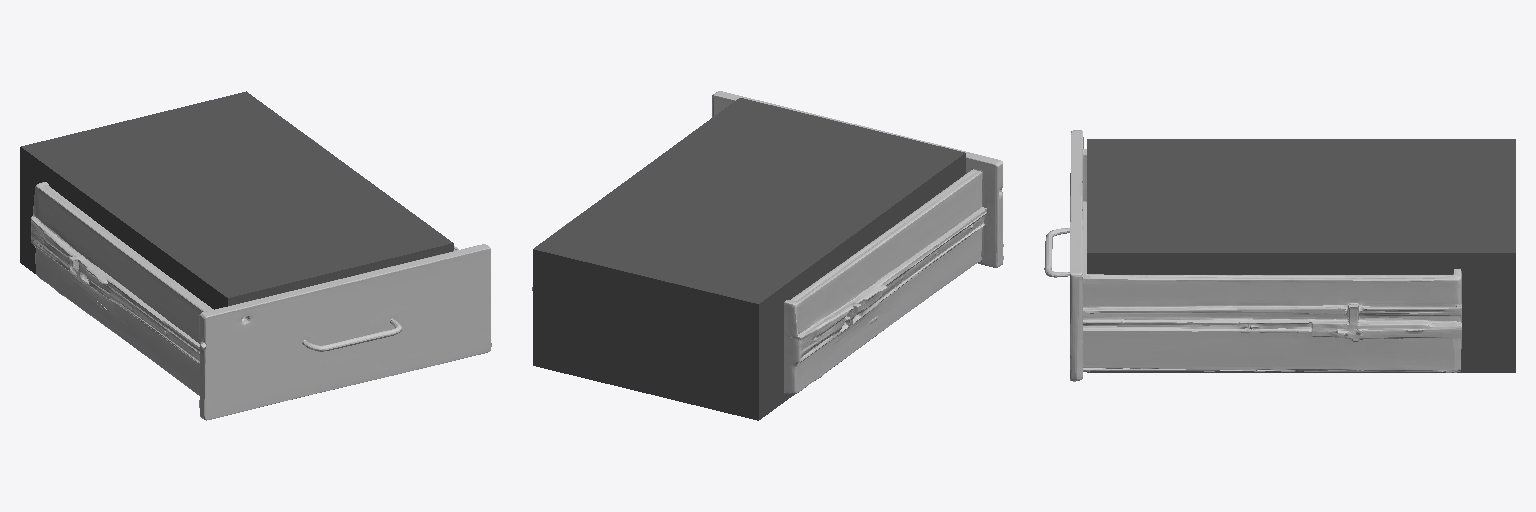
URDF robot description (Scene):
<?xml version='1.0' encoding='ASCII'?>
<robot name="Scene">
  <link name="drawer_corpus">
    <inertial>
      <origin xyz="0.0 0.0 0.0" rpy="0.0 -0.0 0.0" />
      <mass value="0.012323039999999999" />
      <inertia ixx="1.0" ixy="0.0" ixz="0.0" iyy="1.0" iyz="0.0" izz="1.0" />
    </inertial>
    <visual name="drawer_back">
      <geometry>
        <box size="0.361 0.02 0.158" />
      </geometry>
      <origin xyz="0.0 0.2865 0.079" rpy="0.0 -0.0 0.0" />
      <material name="drawer_back_main_color">
        <color rgba="0.4 0.4 0.4 1.0" />
      </material>
    </visual>
    <visual name="drawer_left">
      <geometry>
        <box size="0.02 0.5529999999999999 0.158" />
      </geometry>
      <origin xyz="-0.17049999999999998 0.0 0.079" rpy="0.0 -0.0 0.0" />
      <material name="drawer_left_main_color">
        <color rgba="0.4 0.4 0.4 1.0" />
      </material>
    </visual>
    <visual name="drawer_right">
      <geometry>
        <box size="0.02 0.5529999999999999 0.158" />
      </geometry>
      <origin xyz="0.17049999999999998 0.0 0.079" rpy="0.0 -0.0 0.0" />
      <material name="drawer_right_main_color">
        <color rgba="0.4 0.4 0.4 1.0" />
      </material>
    </visual>
    <visual name="drawer_surface_0_0">
      <geometry>
        <box size="0.321 0.5529999999999999 0.02" />
      </geometry>
      <origin xyz="0.0 0.0 0.010000000000000018" rpy="0.0 -0.0 0.0" />
      <material name="drawer_surface_0_0_main_color">
        <color rgba="0.4 0.4 0.4 1.0" />
      </material>
    </visual>
    <visual name="drawer_top">
      <geometry>
        <box size="0.361 0.573 0.02" />
      </geometry>
      <origin xyz="0.0 0.01 0.16799999999999998" rpy="0.0 -0.0 0.0" />
      <material name="drawer_top_main_color">
        <color rgba="0.4 0.4 0.4 1.0" />
      </material>
    </visual>
    <collision name="drawer_back">
      <geometry>
        <box size="0.361 0.02 0.158" />
      </geometry>
      <origin xyz="0.0 0.2865 0.079" rpy="0.0 -0.0 0.0" />
    </collision>
    <collision name="drawer_left">
      <geometry>
        <box size="0.02 0.5529999999999999 0.158" />
      </geometry>
      <origin xyz="-0.17049999999999998 0.0 0.079" rpy="0.0 -0.0 0.0" />
    </collision>
    <collision name="drawer_right">
      <geometry>
        <box size="0.02 0.5529999999999999 0.158" />
      </geometry>
      <origin xyz="0.17049999999999998 0.0 0.079" rpy="0.0 -0.0 0.0" />
    </collision>
    <collision name="drawer_surface_0_0">
      <geometry>
        <box size="0.321 0.5529999999999999 0.02" />
      </geometry>
      <origin xyz="0.0 0.0 0.010000000000000018" rpy="0.0 -0.0 0.0" />
    </collision>
    <collision name="drawer_top">
      <geometry>
        <box size="0.361 0.573 0.02" />
      </geometry>
      <origin xyz="0.0 0.01 0.16799999999999998" rpy="0.0 -0.0 0.0" />
    </collision>
  </link>
  <link name="drawer_drawer_0_0">
    <inertial>
      <origin xyz="0.0 0.0 0.0" rpy="0.0 -0.0 0.0" />
      <mass value="0.1" />
      <inertia ixx="1.0" ixy="0.0" ixz="0.0" iyy="1.0" iyz="0.0" izz="1.0" />
    </inertial>
    <visual><geometry><mesh filename="drawers_extracted/warped_drawer.obj" /></geometry><material name="drawer_drawer_0_0_material"><color rgba="0.8 0.8 0.8 1.0" /></material></visual><collision><geometry><box size="0.357000 0.625800 0.174000" /></geometry><origin xyz="0.000000 0.182800 0.000000" rpy="0 0 0" /></collision></link>
  <link name="world" />
  <link name="drawer" />
  <joint name="drawer_world_fixed_joint" type="fixed">
    <parent link="world" />
    <child link="drawer" />
    <origin xyz="0.0 0.0 0.0" rpy="0.0 -0.0 0.0" />
  </joint>
  <joint name="drawer_corpus_to_drawer_0_0" type="prismatic">
    <parent link="drawer_corpus" />
    <child link="drawer_drawer_0_0" />
    <origin xyz="0.0 -0.27649999999999997 0.08900000000000001" rpy="0.0 -0.0 0.0" />
    <axis xyz="0 -1 0" />
    <limit effort="1000.0" velocity="1.0" lower="0.0" upper="0.46412999999999993" />
  </joint>
  <joint name="drawer_origin_joint" type="fixed">
    <parent link="drawer" />
    <child link="drawer_corpus" />
    <origin xyz="0.0 0.0 0.0" rpy="0.0 -0.0 0.0" />
  </joint>
</robot>

--- Facts derived from the render (not from the file) ---
The picture shows the robot from 3 angles, left to right: view 1: azimuth 30°, elevation 25°; view 2: azimuth 150°, elevation 25°; view 3: azimuth 270°, elevation 25°; orthographic projection.
Robot: Scene — 4 links, 3 joints (1 prismatic, 2 fixed); root link world; default pose: every joint at zero.
Visible links, largest first — view 1: drawer_corpus, drawer_drawer_0_0; view 2: drawer_corpus, drawer_drawer_0_0; view 3: drawer_corpus, drawer_drawer_0_0.
Link boxes in pixels (x1=…): drawer_corpus: x1=20, y1=91, x2=453, y2=309; drawer_drawer_0_0: x1=31, y1=137, x2=491, y2=420; drawer_corpus: x1=533, y1=98, x2=965, y2=420; drawer_drawer_0_0: x1=532, y1=91, x2=1003, y2=393; drawer_corpus: x1=1087, y1=139, x2=1515, y2=372; drawer_drawer_0_0: x1=1044, y1=130, x2=1461, y2=381.
Bounding box of the posed robot: 0.4611 × 0.6296 × 0.178 m (x, y, z).
1 mesh visuals loaded from 1 distinct referenced files (1 OBJ).